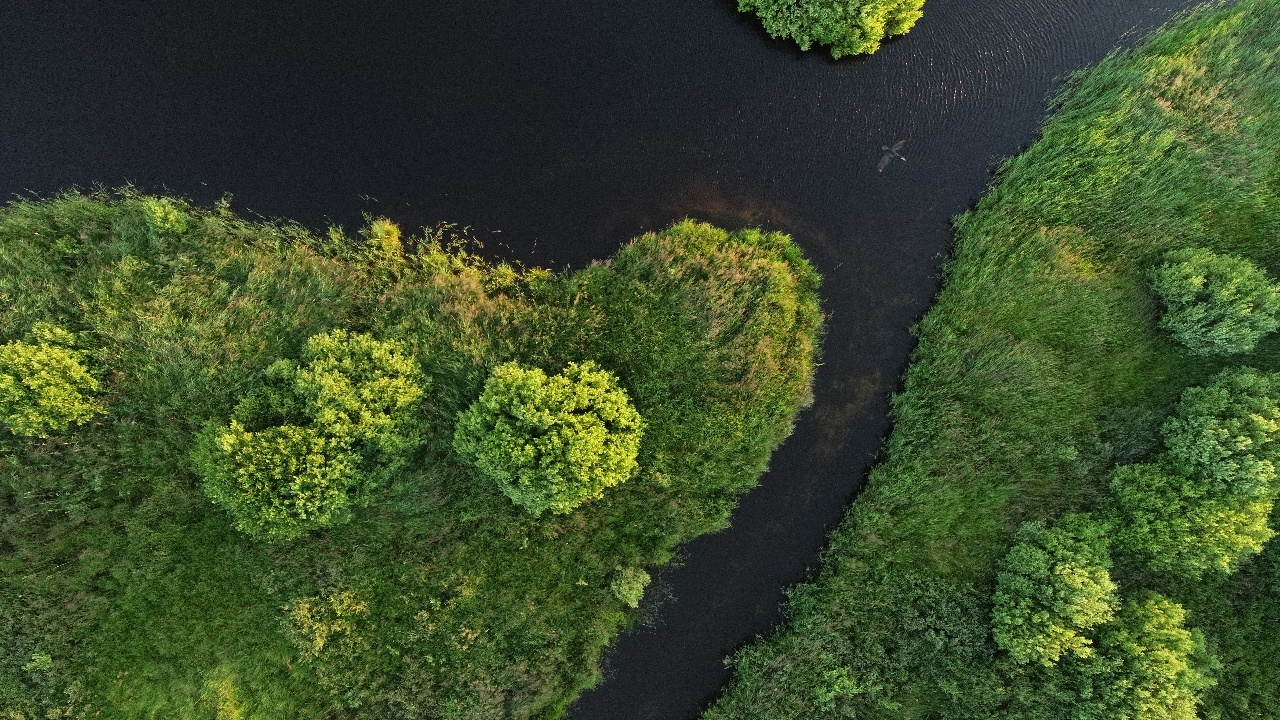Bird: (866, 131, 920, 177)
